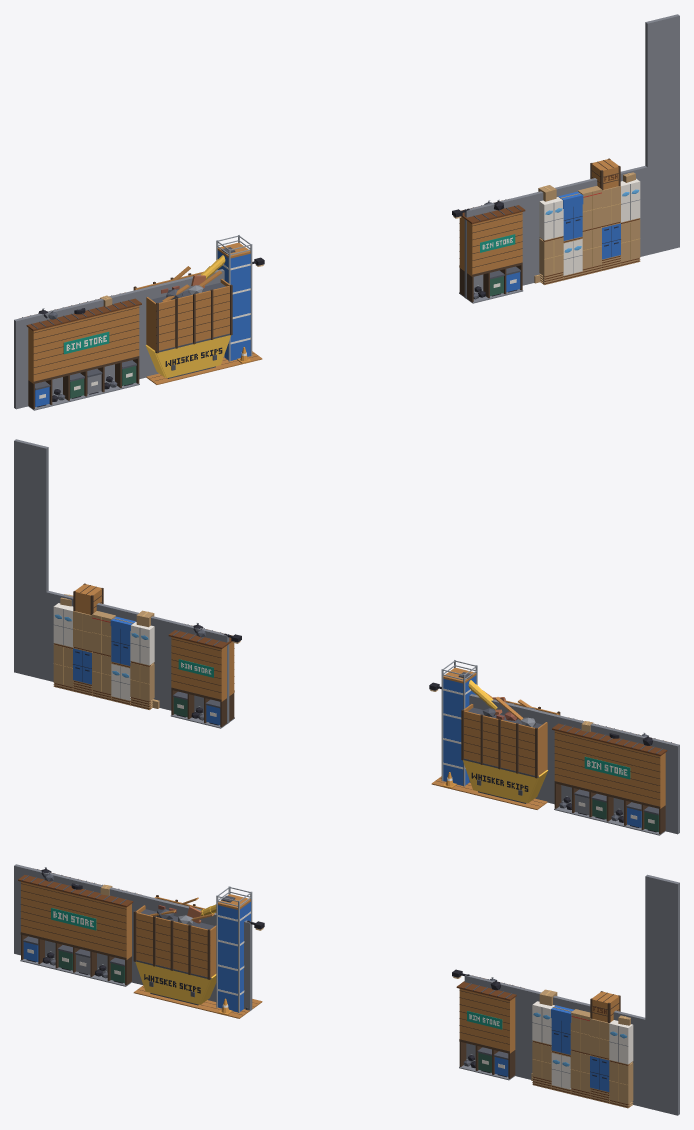
The model's file is CatCafe_Alley_Blocker_RowFar.glb.
3 views of the same model, one above another, from view 1: azimuth 30°, elevation 25°; view 2: azimuth 150°, elevation 25°; view 3: azimuth 330°, elevation 25° (orthographic).
Visible parts, largest first — view 1: CatCafe_Alley_Blocker_RowFar_003_Blocker_Skip, CatCafe_Alley_Blocker_RowFar_002_Blocker_Bins, CatCafe_Alley_Blocker_RowFar_000_Blocker_Pallets, CatCafe_Alley_Blocker_RowFar_Barrier, CatCafe_Alley_Blocker_RowFar_001_Blocker_BinsShort, CatCafe_Alley_Blocker_RowFar_002_Blocker_Bins_Barrier, CatCafe_Alley_Blocker_RowFar_000_Blocker_Pallets_Barrier, CatCafe_Alley_Blocker_RowFar_003_Blocker_Skip_Barrier, CatCafe_Alley_Blocker_RowFar_001_Blocker_BinsShort_Barrier; view 2: CatCafe_Alley_Blocker_RowFar_003_Blocker_Skip, CatCafe_Alley_Blocker_RowFar_002_Blocker_Bins, CatCafe_Alley_Blocker_RowFar_000_Blocker_Pallets, CatCafe_Alley_Blocker_RowFar_Barrier, CatCafe_Alley_Blocker_RowFar_001_Blocker_BinsShort, CatCafe_Alley_Blocker_RowFar_002_Blocker_Bins_Barrier, CatCafe_Alley_Blocker_RowFar_000_Blocker_Pallets_Barrier, CatCafe_Alley_Blocker_RowFar_003_Blocker_Skip_Barrier, CatCafe_Alley_Blocker_RowFar_001_Blocker_BinsShort_Barrier; view 3: CatCafe_Alley_Blocker_RowFar_003_Blocker_Skip, CatCafe_Alley_Blocker_RowFar_002_Blocker_Bins, CatCafe_Alley_Blocker_RowFar_000_Blocker_Pallets, CatCafe_Alley_Blocker_RowFar_Barrier, CatCafe_Alley_Blocker_RowFar_001_Blocker_BinsShort, CatCafe_Alley_Blocker_RowFar_000_Blocker_Pallets_Barrier, CatCafe_Alley_Blocker_RowFar_003_Blocker_Skip_Barrier, CatCafe_Alley_Blocker_RowFar_002_Blocker_Bins_Barrier, CatCafe_Alley_Blocker_RowFar_001_Blocker_BinsShort_Barrier.
Boxes of the visible parts, x1,y1,x2,y2 form: CatCafe_Alley_Blocker_RowFar_003_Blocker_Skip: (133, 235, 262, 384); CatCafe_Alley_Blocker_RowFar_002_Blocker_Bins: (22, 292, 141, 410); CatCafe_Alley_Blocker_RowFar_000_Blocker_Pallets: (534, 158, 640, 284); CatCafe_Alley_Blocker_RowFar_Barrier: (645, 14, 679, 254); CatCafe_Alley_Blocker_RowFar_001_Blocker_BinsShort: (459, 199, 525, 303); CatCafe_Alley_Blocker_RowFar_002_Blocker_Bins_Barrier: (14, 291, 133, 409); CatCafe_Alley_Blocker_RowFar_000_Blocker_Pallets_Barrier: (527, 165, 647, 283); CatCafe_Alley_Blocker_RowFar_003_Blocker_Skip_Barrier: (132, 269, 224, 379); CatCafe_Alley_Blocker_RowFar_001_Blocker_BinsShort_Barrier: (464, 194, 529, 298); CatCafe_Alley_Blocker_RowFar_003_Blocker_Skip: (431, 660, 560, 809); CatCafe_Alley_Blocker_RowFar_002_Blocker_Bins: (552, 717, 671, 835); CatCafe_Alley_Blocker_RowFar_000_Blocker_Pallets: (53, 583, 159, 709); CatCafe_Alley_Blocker_RowFar_Barrier: (14, 439, 48, 679); CatCafe_Alley_Blocker_RowFar_001_Blocker_BinsShort: (168, 623, 234, 728); CatCafe_Alley_Blocker_RowFar_002_Blocker_Bins_Barrier: (560, 716, 679, 834); CatCafe_Alley_Blocker_RowFar_000_Blocker_Pallets_Barrier: (46, 590, 166, 708); CatCafe_Alley_Blocker_RowFar_003_Blocker_Skip_Barrier: (469, 694, 561, 804); CatCafe_Alley_Blocker_RowFar_001_Blocker_BinsShort_Barrier: (164, 619, 229, 723); CatCafe_Alley_Blocker_RowFar_003_Blocker_Skip: (133, 886, 262, 1018); CatCafe_Alley_Blocker_RowFar_002_Blocker_Bins: (18, 867, 137, 986); CatCafe_Alley_Blocker_RowFar_000_Blocker_Pallets: (531, 989, 633, 1108); CatCafe_Alley_Blocker_RowFar_Barrier: (645, 874, 679, 1115); CatCafe_Alley_Blocker_RowFar_001_Blocker_BinsShort: (456, 975, 524, 1080); CatCafe_Alley_Blocker_RowFar_000_Blocker_Pallets_Barrier: (527, 989, 645, 1107); CatCafe_Alley_Blocker_RowFar_003_Blocker_Skip_Barrier: (132, 893, 252, 1010); CatCafe_Alley_Blocker_RowFar_002_Blocker_Bins_Barrier: (14, 864, 133, 972); CatCafe_Alley_Blocker_RowFar_001_Blocker_BinsShort_Barrier: (464, 974, 529, 1078).
Size of the model in its own units: 90 by 30 by 5.64.
1 material, 1 textured.
